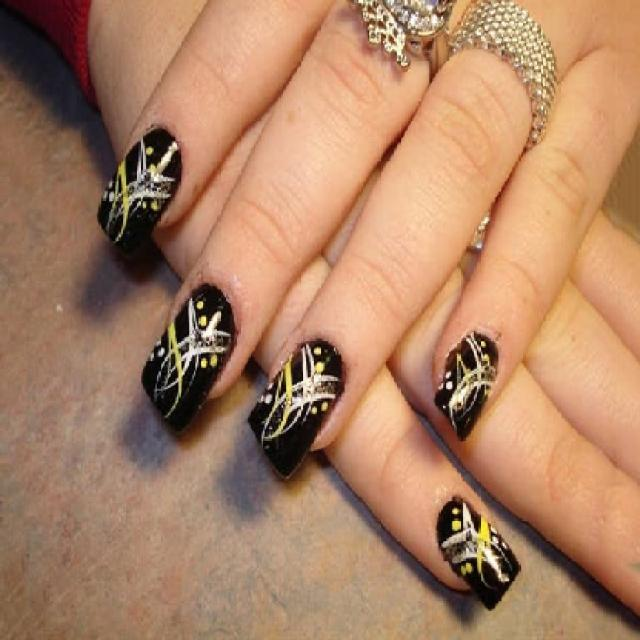Nail: (142, 284, 236, 431), (249, 339, 344, 478), (99, 129, 180, 250), (439, 498, 519, 608), (436, 332, 498, 438)
